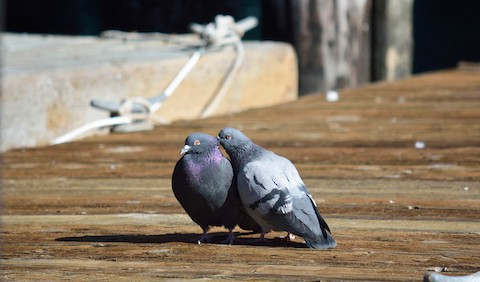pigeon: (217, 126, 343, 255), (166, 131, 258, 248)
